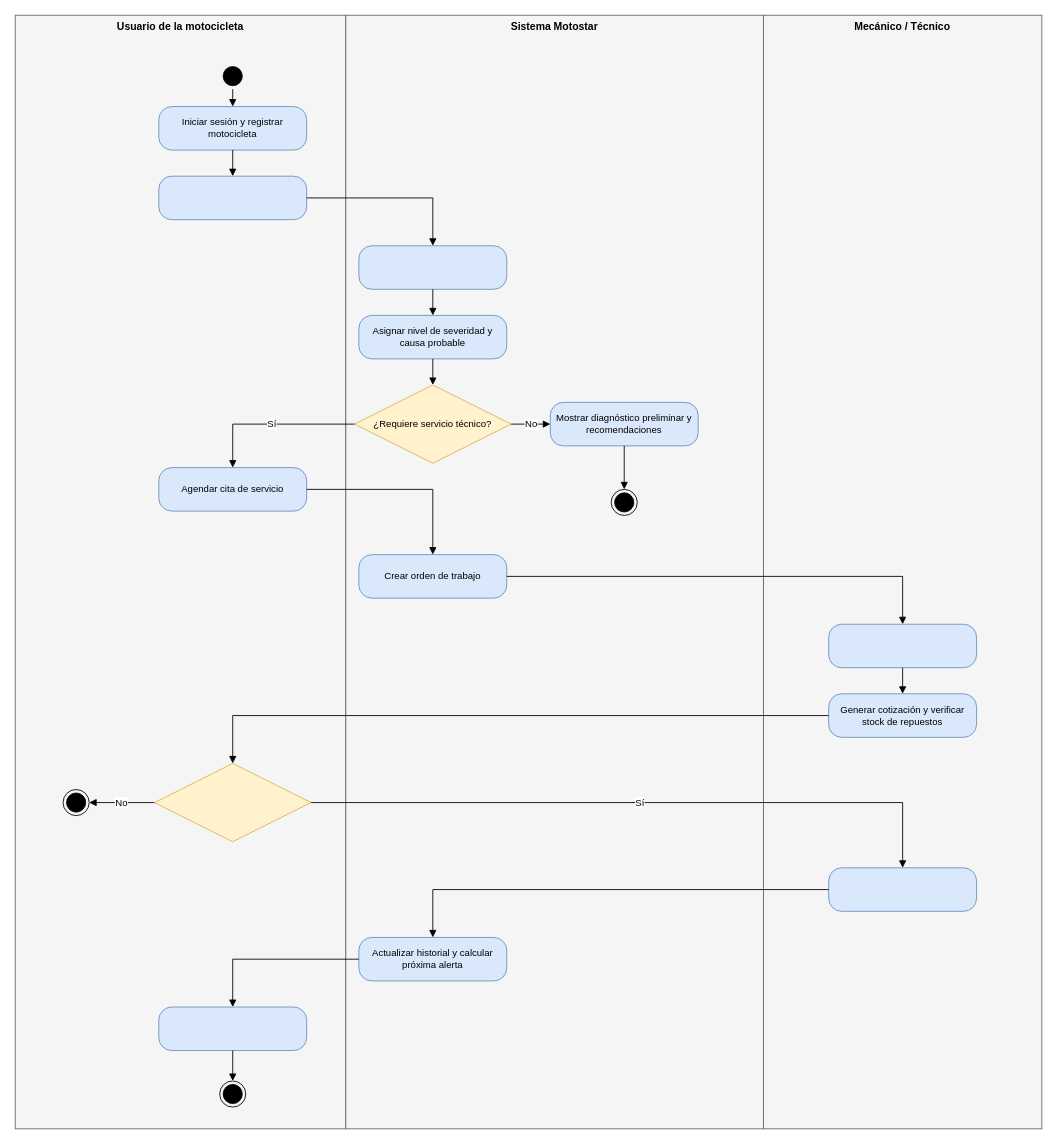
Image size: 1057x1144. Some labels were removed from this diagram. The shapes that lost their labels are listed below. From the top down, each one's centre as x and y in pixels, then its label:
the point at 232,197: Ingresar síntomas de falla
the point at 432,267: Evaluar síntomas con el motor de diagnóstico
the point at 902,645: Realizar inspección física y confirmar diagnóstico
the point at 232,802: ¿Autoriza el presupuesto?
the point at 902,889: Ejecutar mantenimiento
the point at 232,1028: Recibir alerta y consultar historial
